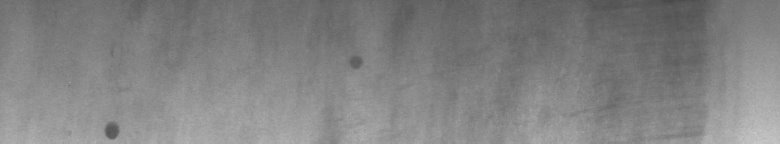fi: (100, 50, 128, 136)
